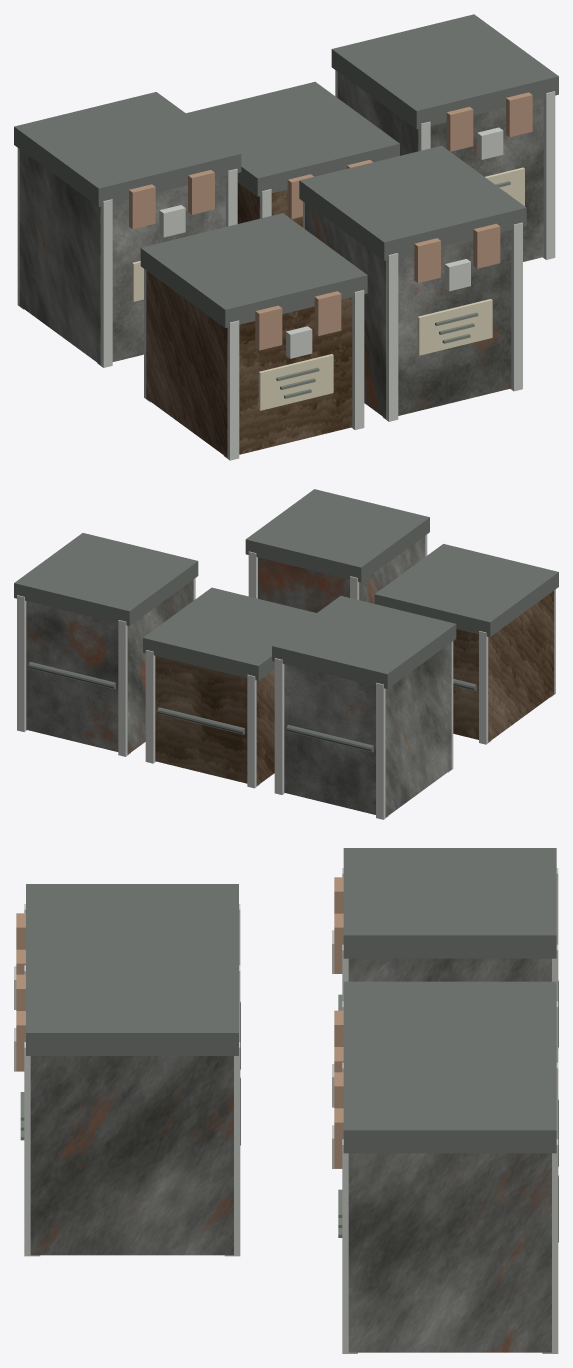
The model's file is afterday_storage_pbr.glb.
The picture shows the model from 3 angles, top to bottom: view 1: azimuth 30°, elevation 25°; view 2: azimuth 150°, elevation 25°; view 3: azimuth 270°, elevation 25°; orthographic projection. The views are drawn at different scales.
Parts seen in each view (by area): view 1: gasket storage box_30, gasket storage box_0, gasket storage box_40, gasket cover_41, gasket cover_31, gasket cover_21, gasket cover_1, gasket cover_11, gasket storage box_20, worn paper provision inventory placards_50, metal corner_42, metal corner_24 (+20 smaller); view 2: gasket storage box_0, gasket storage box_20, gasket storage box_10, gasket cover_1, gasket cover_41, gasket cover_21, gasket cover_31, gasket storage box_30, gasket cover_11, gasket storage box_40, metal corner_5, metal corner_23 (+9 smaller); view 3: gasket storage box_20, gasket storage box_40, gasket cover_1, gasket cover_21, gasket cover_41, gasket cover_11, gasket cover_31, gasket storage box_0, metal corner_25, metal corner_44, metal corner_24, metal corner_45.
Part boxes in pixels (box(x1,y1,x2,y2)): gasket storage box_30: box(146, 270, 352, 457); gasket storage box_0: box(19, 149, 225, 364); gasket storage box_40: box(305, 203, 511, 418); gasket cover_41: box(299, 145, 526, 260); gasket cover_31: box(140, 213, 367, 327); gasket cover_21: box(331, 14, 558, 129); gasket cover_1: box(14, 92, 241, 206); gasket cover_11: box(186, 81, 399, 196); gasket storage box_20: box(337, 72, 543, 261); worn paper provision inventory placards_50: box(132, 167, 524, 410); metal corner_42: box(383, 253, 398, 421); metal corner_24: box(543, 91, 555, 259); gasket storage box_0: box(284, 642, 451, 817); gasket storage box_20: box(26, 579, 193, 754); gasket storage box_10: box(155, 656, 274, 785); gasket cover_1: box(272, 596, 456, 688); gasket cover_41: box(245, 489, 429, 582); gasket cover_21: box(14, 533, 198, 625); gasket cover_31: box(374, 544, 558, 636); gasket storage box_30: box(453, 590, 554, 742); gasket cover_11: box(143, 587, 316, 680); gasket storage box_40: box(258, 536, 425, 612); metal corner_5: box(274, 658, 284, 794); metal corner_23: box(118, 620, 130, 756); gasket storage box_20: box(348, 1153, 551, 1352); gasket storage box_40: box(30, 1056, 233, 1255); gasket cover_1: box(343, 848, 556, 958); gasket cover_21: box(343, 1043, 556, 1153); gasket cover_41: box(26, 945, 238, 1055); gasket cover_11: box(343, 981, 556, 1042); gasket cover_31: box(26, 884, 238, 945); gasket storage box_0: box(348, 958, 551, 981); metal corner_25: box(542, 1139, 558, 1353); metal corner_44: box(24, 1042, 40, 1256); metal corner_24: box(342, 1139, 357, 1353); metal corner_45: box(224, 1042, 240, 1256).
Size of the model in its own units: 4.2 by 1.57 by 3.43.
7 materials, 2 textured.
